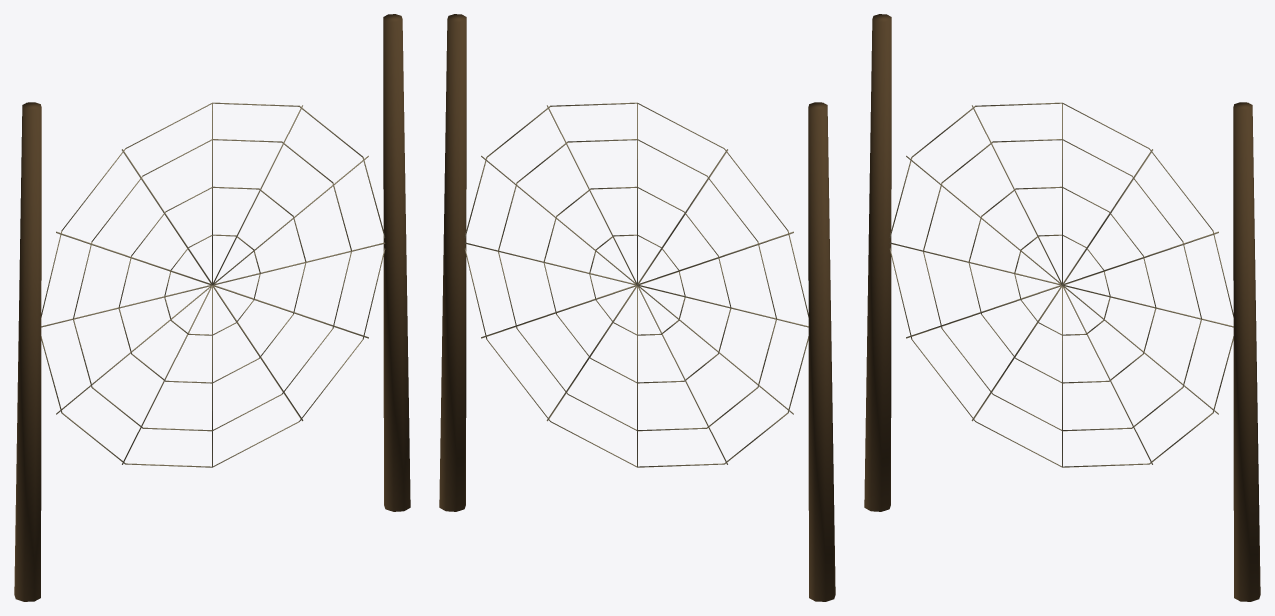
Rendered from web.glb.
3 views of the same model, side by side, from view 1: azimuth 30°, elevation 25°; view 2: azimuth 150°, elevation 25°; view 3: azimuth 330°, elevation 25° (orthographic).
Parts seen in each view (by area): view 1: MV_web; view 2: MV_web; view 3: MV_web.
Part boxes in pixels (bbox=[...]): MV_web: bbox=[14, 14, 410, 601]; MV_web: bbox=[439, 14, 835, 601]; MV_web: bbox=[864, 14, 1260, 601].
Bounding box in the file's own units: 1.81 × 2.15 × 0.11.
